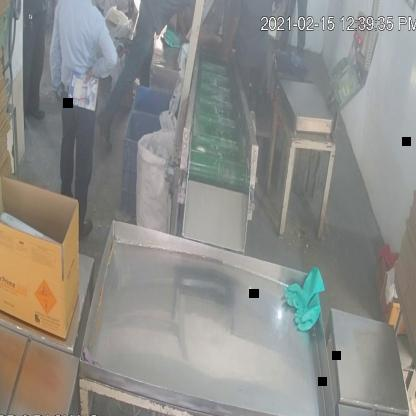glove: (281, 256, 326, 338)
no_glove: (87, 13, 123, 84), (220, 9, 245, 74)
